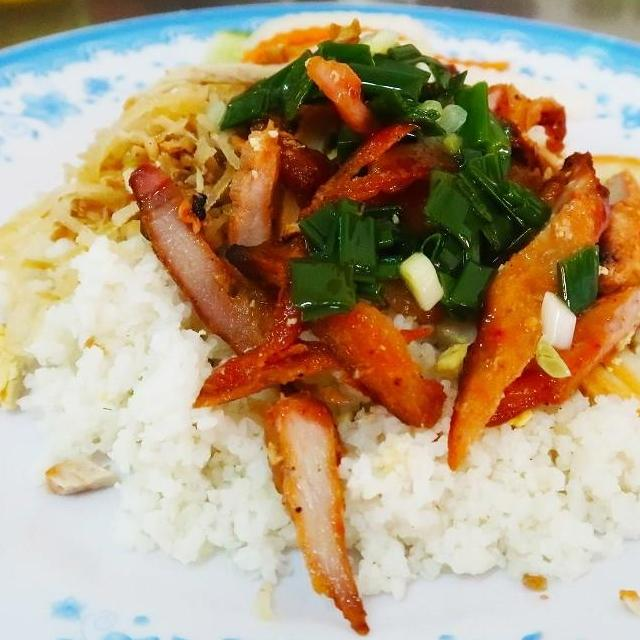bi: (18, 55, 250, 272)
com: (5, 222, 303, 590), (332, 388, 640, 599)
com suon: (0, 10, 640, 640)
suon: (214, 77, 640, 474), (128, 162, 363, 418), (256, 381, 375, 640)
